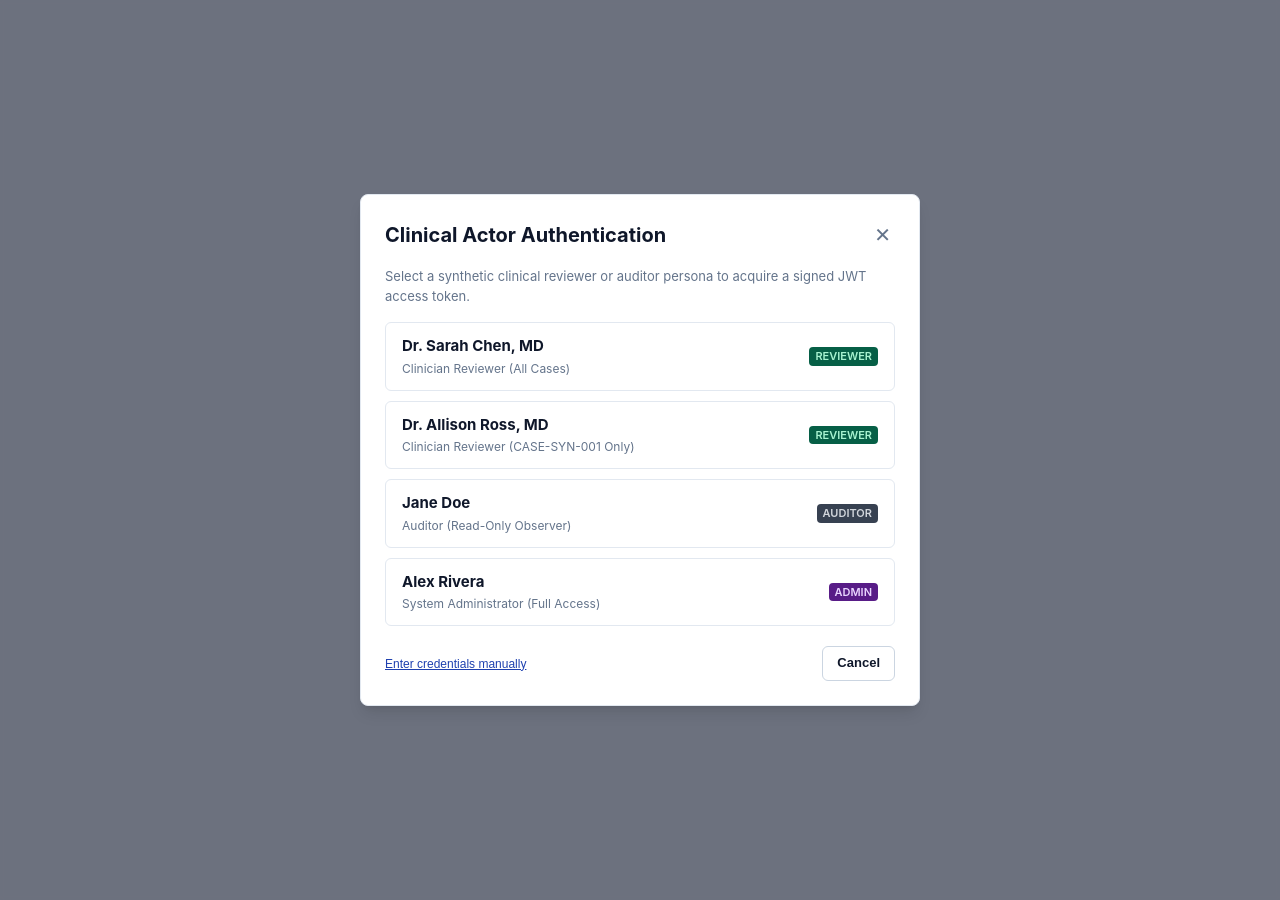
SignInModal & Authentication › displays authentication error if login fails
What coordinates should you click on to do the following:
click the button "Dr. Sarah Chen, MD Clinician Reviewer (All Cases) REVIEWER"
I would click on:
 (473, 346)
Its box is [385,322,895,391].
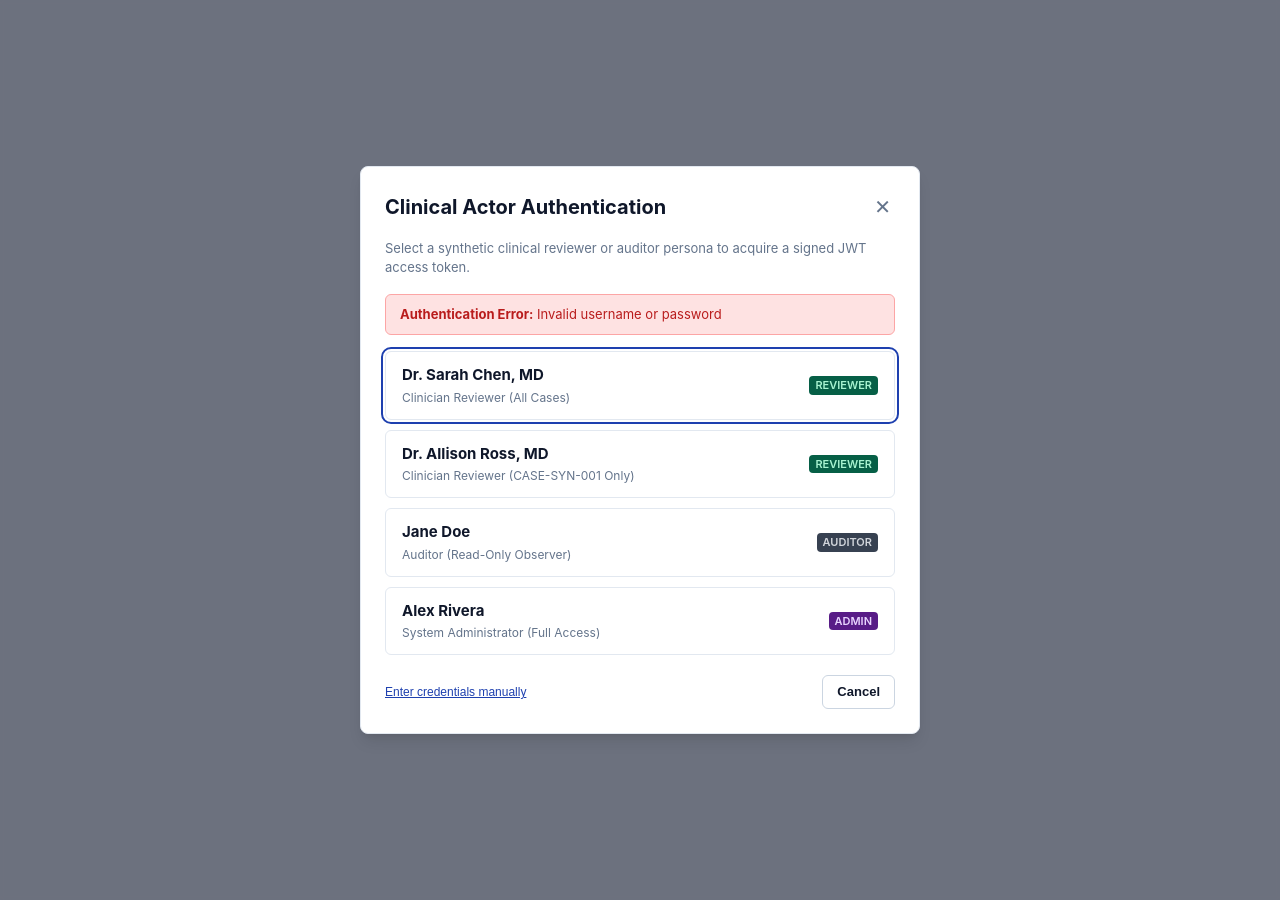
Expected: the message shows "Invalid username or password", [537,306,722,322]
